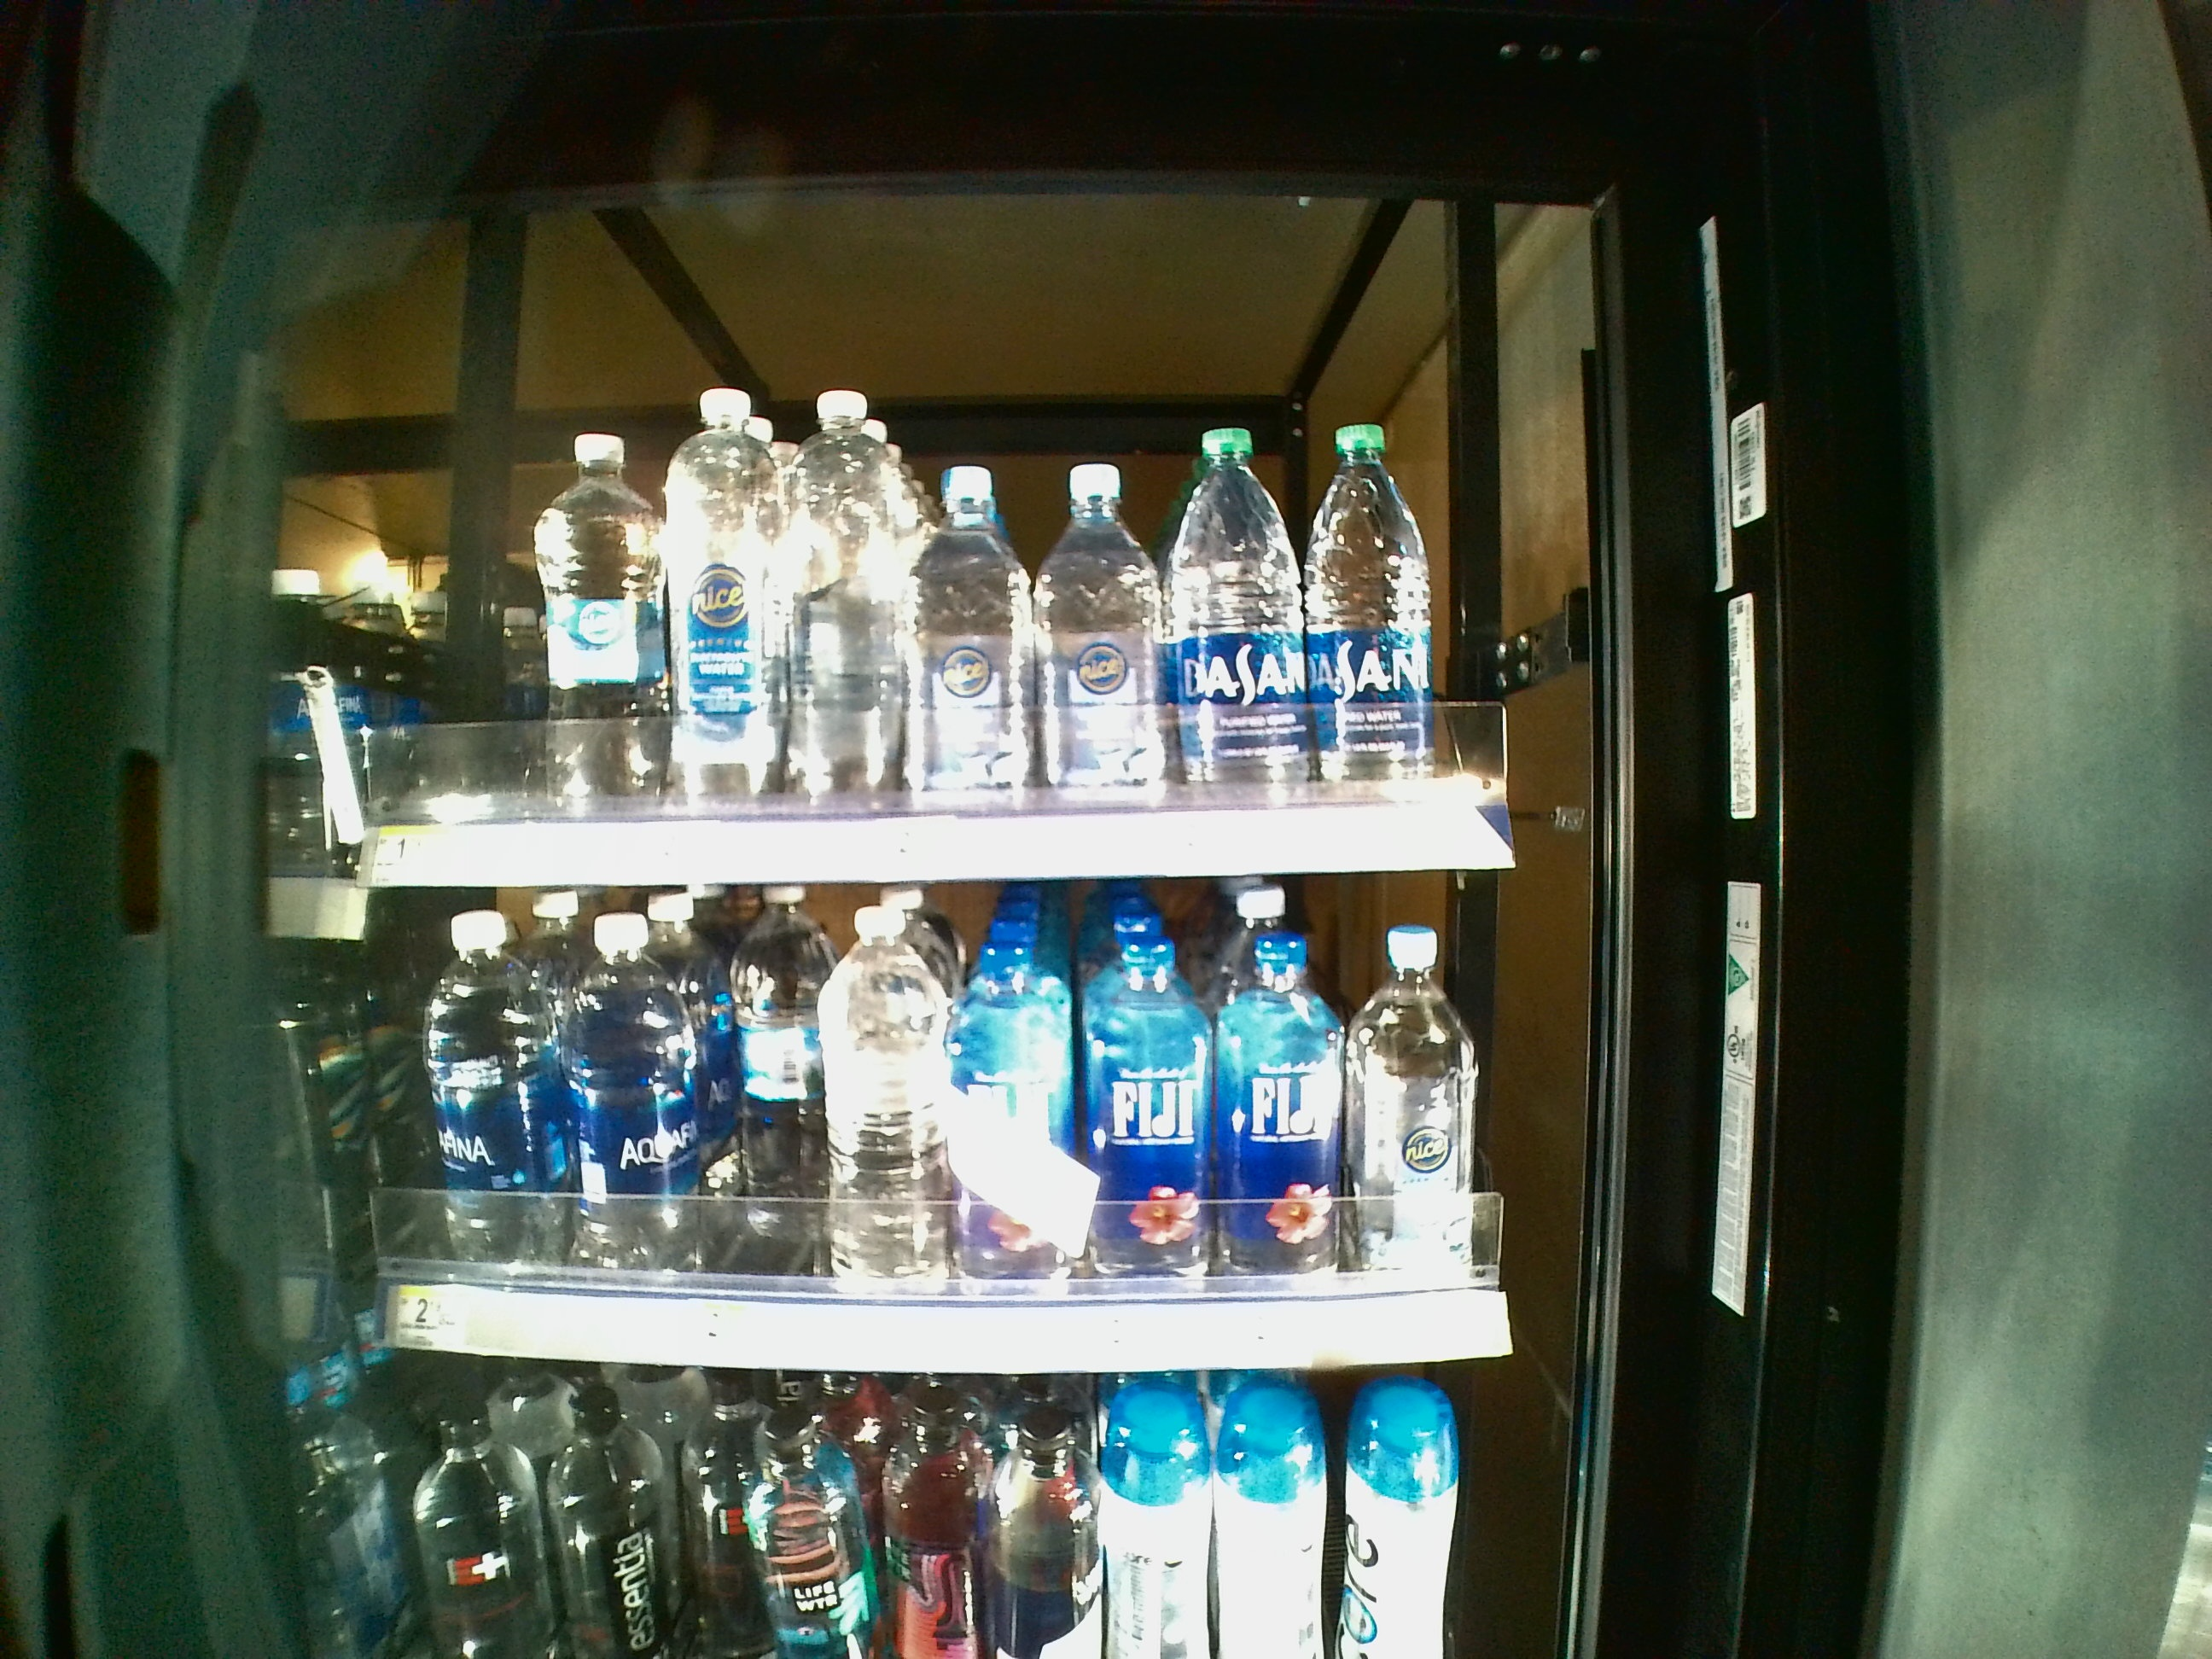Shelf: (286, 193, 1639, 884), (286, 882, 1639, 1371)
